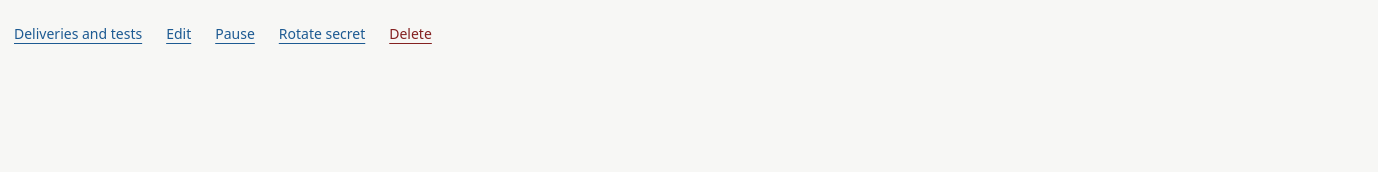
Test: SubscriptionActions › explains {"kind":"upgrade"}
Click the button with aria-label "Pause LA Metro": (235, 34) [213,12,257,56]
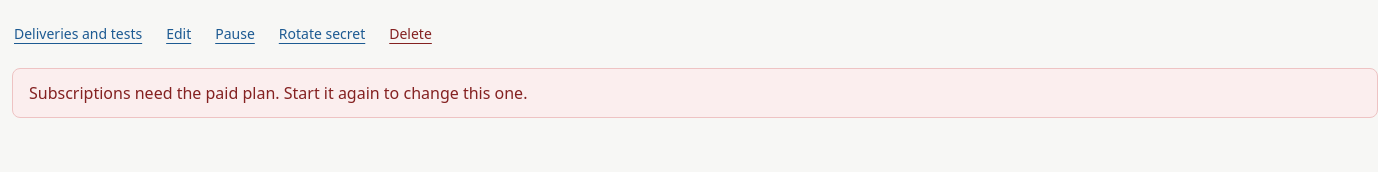
Now the message shows "need the paid plan", box [29,82,527,104]
